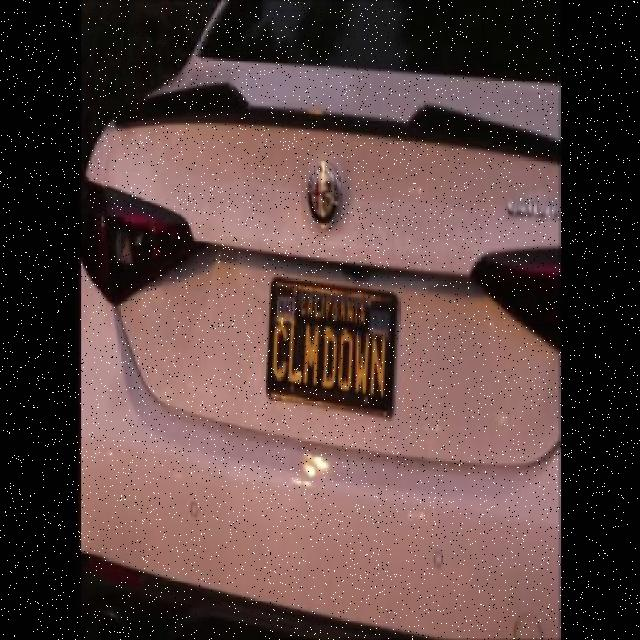licenseplate: (264, 274, 398, 415)
